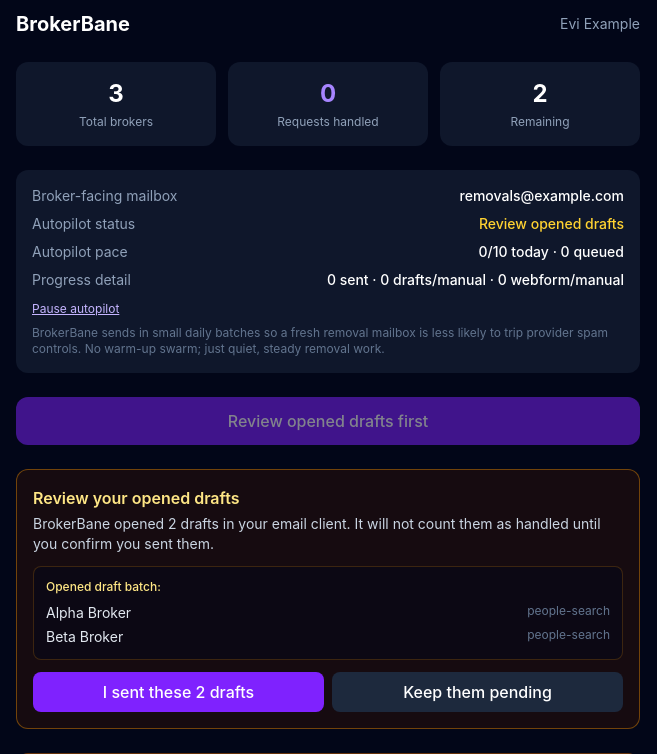
Test case: Dashboard safety controls › persists opened mailto drafts across reload until the user resolves them
Expected: the heading "Review your opened drafts" is shown, [33,488,240,508]
Expected: the button "Review opened drafts first" is disabled, [16,397,640,445]
Click the button "Keep them pending".
click(478, 692)  # box [332,672,623,712]
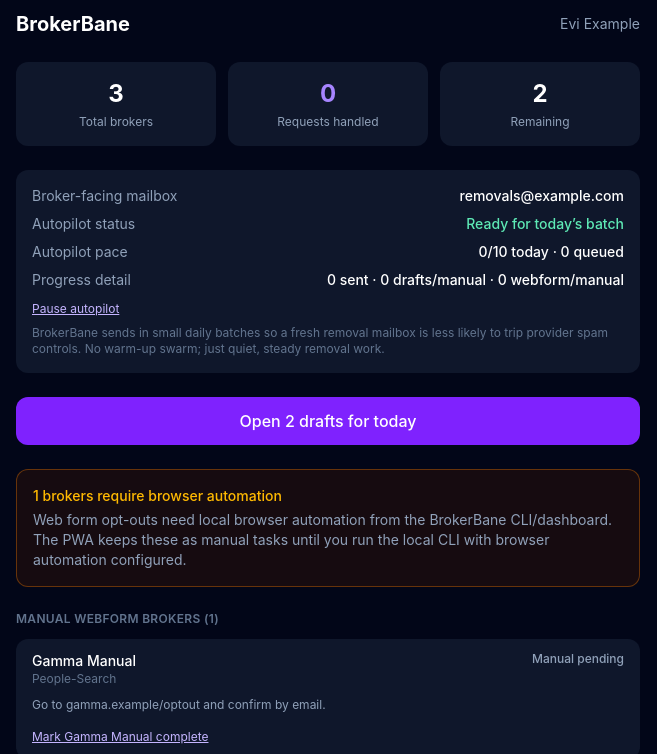
Expected: the button "Open 2 drafts for today" is shown, [16,397,640,445]
